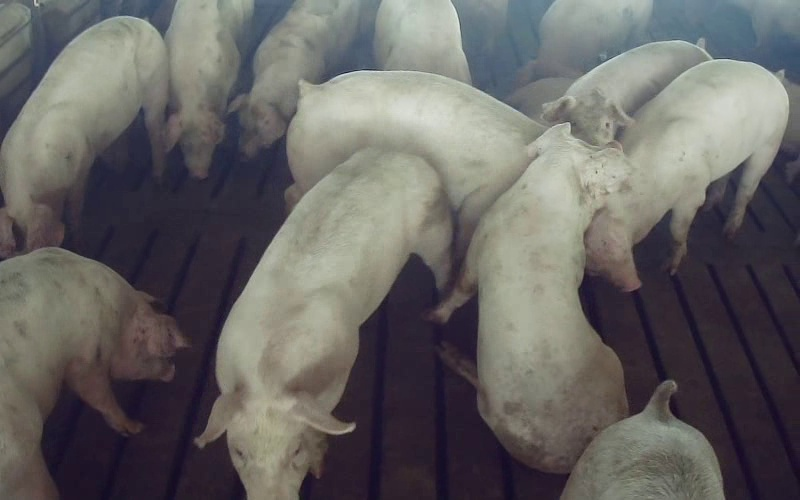pig: (196, 148, 450, 499), (430, 124, 629, 472), (286, 71, 544, 261), (0, 248, 186, 499), (586, 61, 788, 290), (0, 17, 167, 256), (542, 38, 711, 144), (516, 0, 652, 86), (374, 0, 471, 84)
